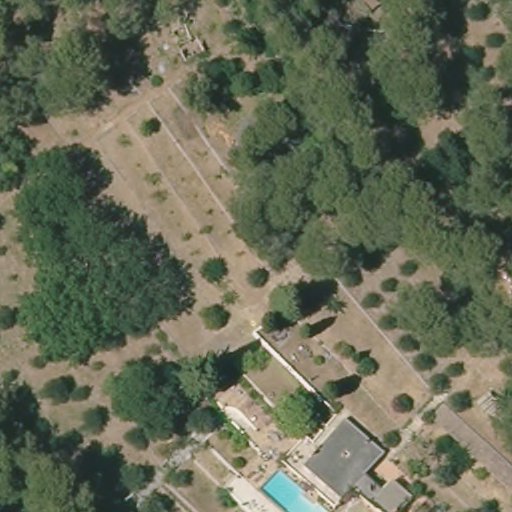pool: (262, 468, 326, 512)
